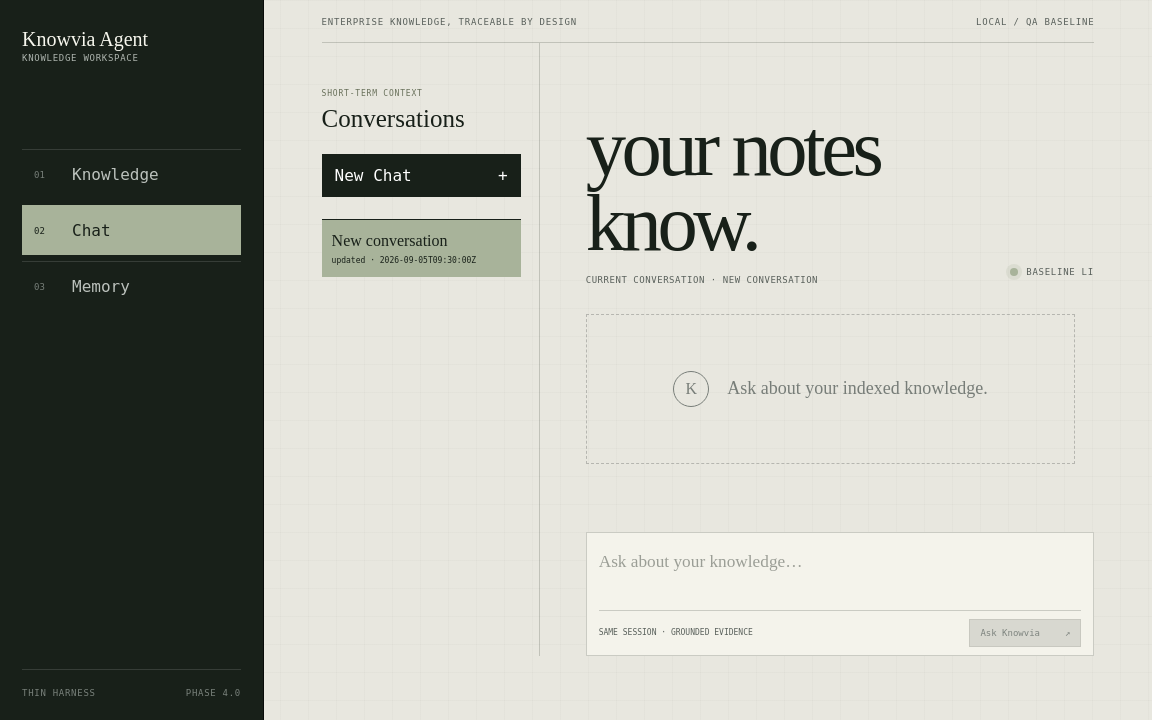
Test case: Knowvia frontend harness › shows explicit save confirmation states in Chat
(page scrolled)
Expected: the text "Ask about your indexed knowledge." is shown, x1=727 y1=378 x2=988 y2=400
In the text box named "Question": point(840, 577) x1=599 y1=543 x2=1081 y2=611, type "記住，我們 production 使用 pgvector。"
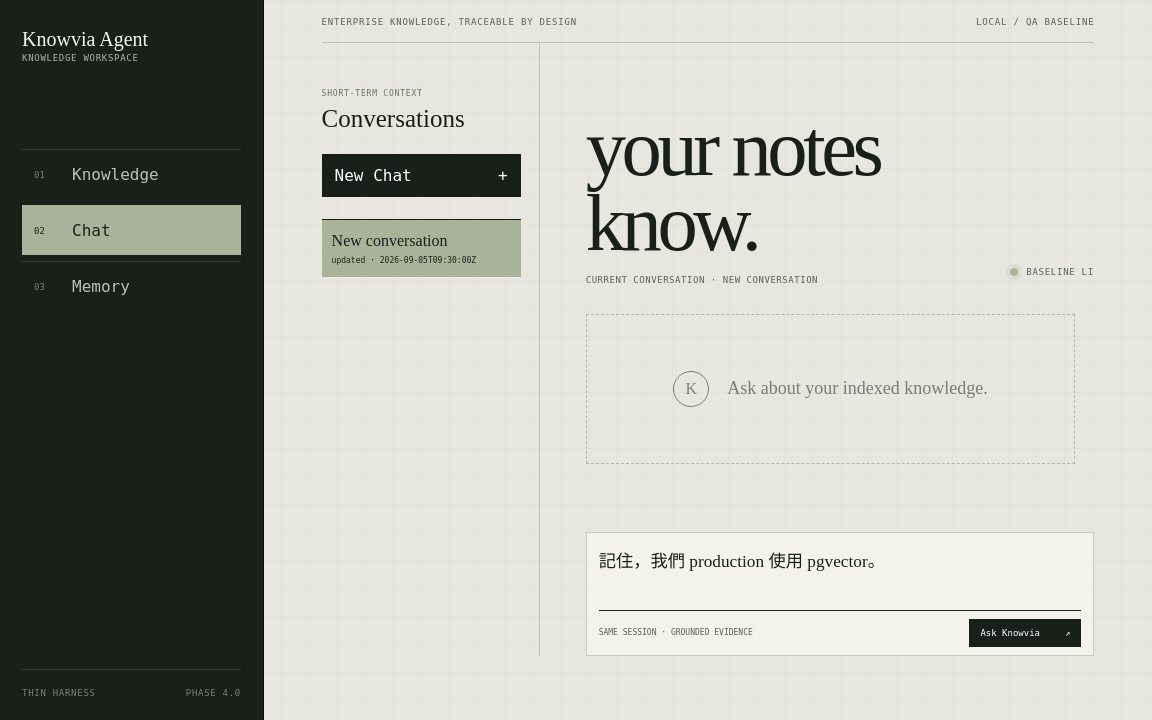
Click the button "Ask Knowvia ↗": point(1025, 633) x1=969 y1=619 x2=1081 y2=647
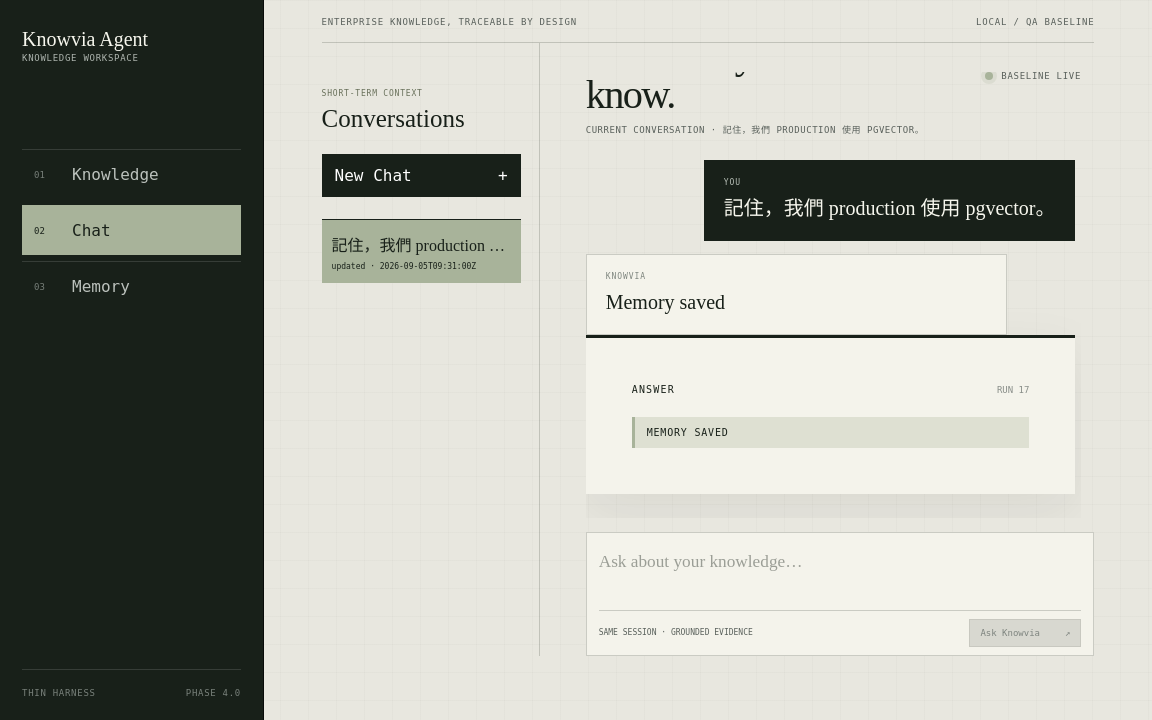
Expected: the text "Memory saved" is shown, x1=632 y1=417 x2=1029 y2=448
Click the button "New Chat +": point(421, 176) x1=322 y1=154 x2=521 y2=197
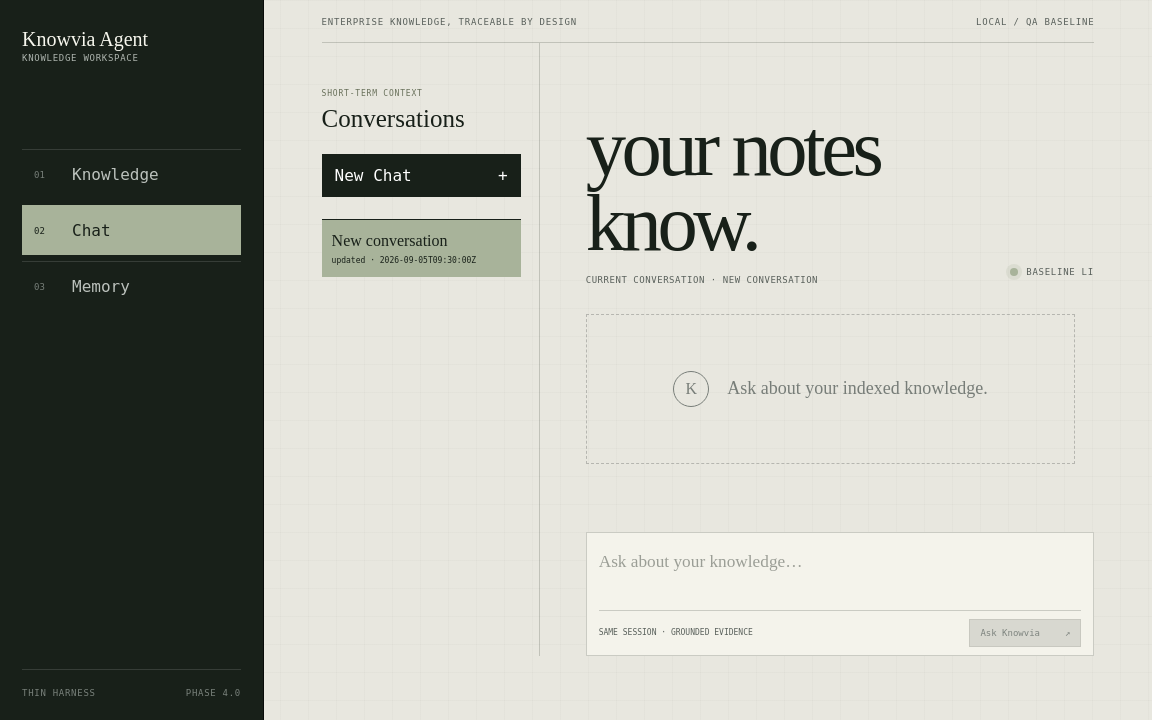
Expected: the text "Ask about your indexed knowledge." is shown, x1=727 y1=378 x2=988 y2=400
In the text box named "Question": point(840, 577) x1=599 y1=543 x2=1081 y2=611, type "記住，我們 production 使用 pgvector。"
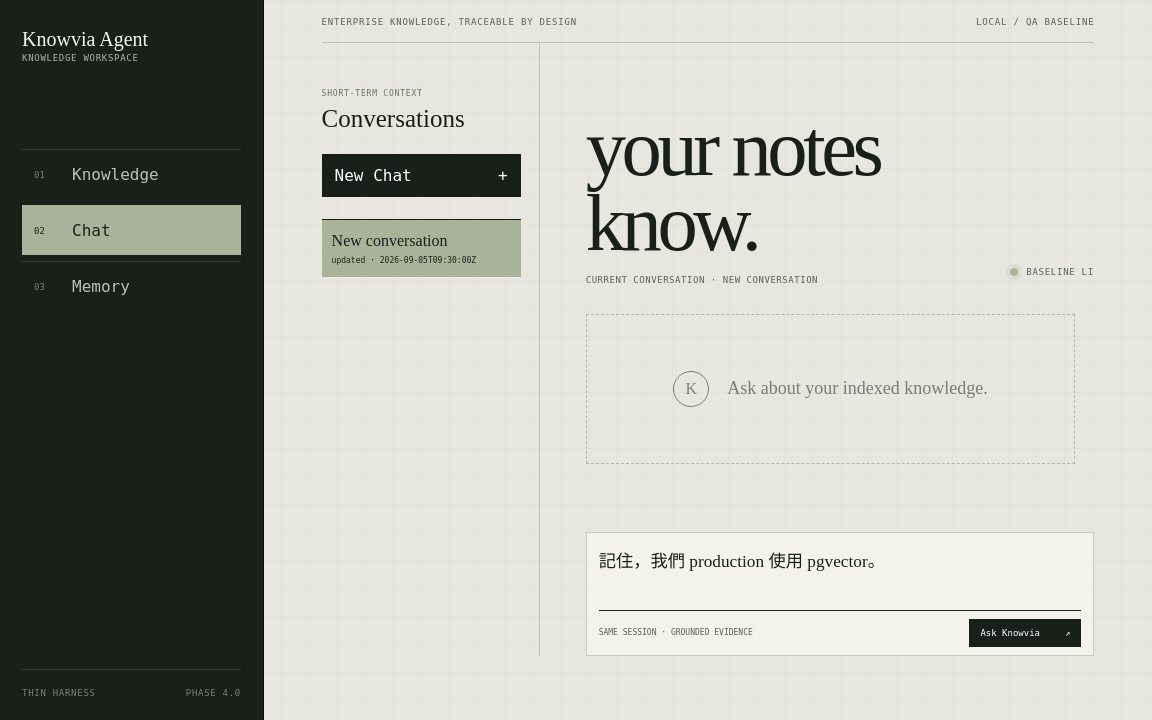
Click the button "Ask Knowvia ↗": point(1025, 633) x1=969 y1=619 x2=1081 y2=647
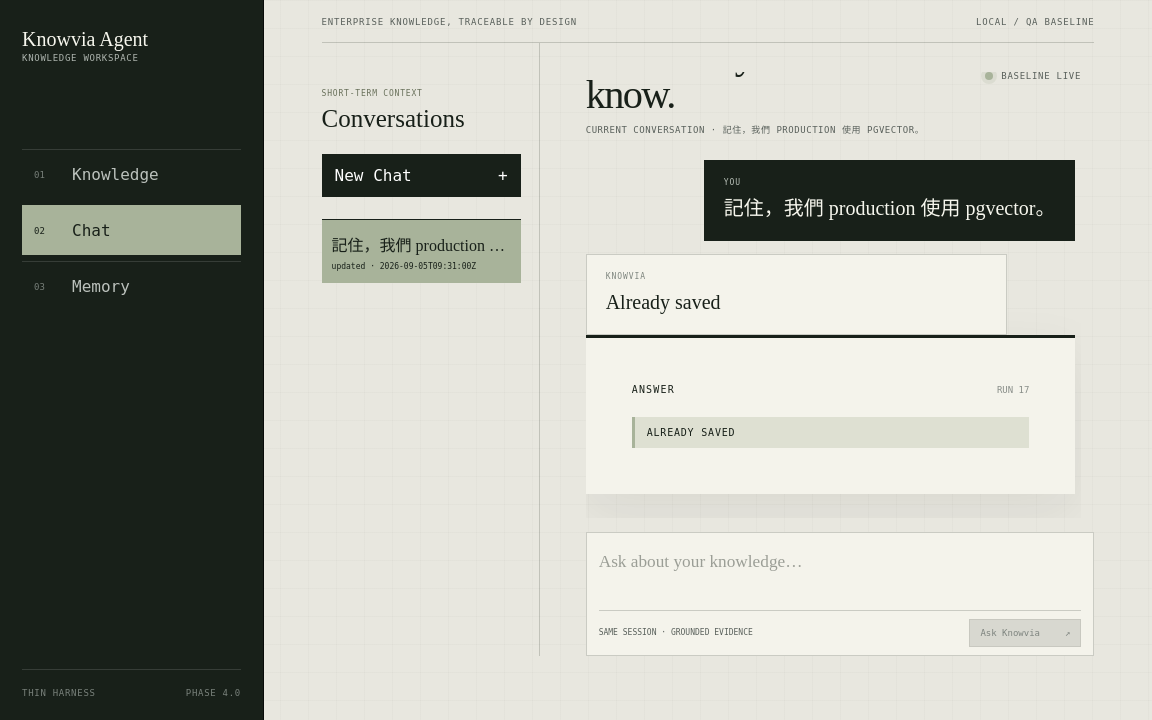
Expected: the text "Already saved" is shown, x1=632 y1=417 x2=1029 y2=448
